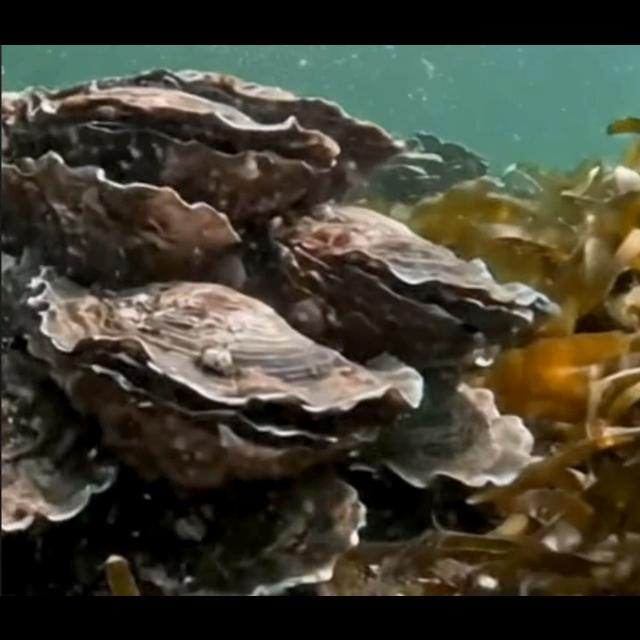Oyster-Closed: (97, 70, 403, 184), (0, 153, 238, 283), (128, 470, 364, 596), (0, 344, 114, 530), (346, 379, 530, 488)
Oyster-Open: (29, 265, 422, 483), (266, 202, 556, 364), (14, 90, 338, 222)
